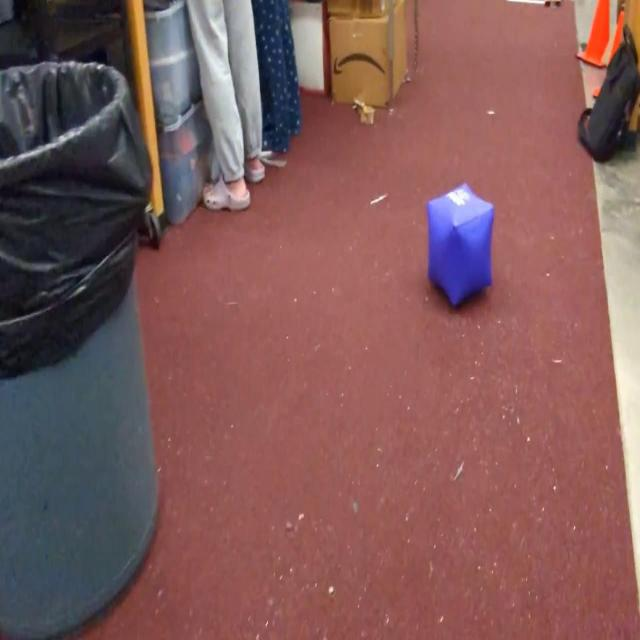frc_cube: (427, 181, 495, 314)
